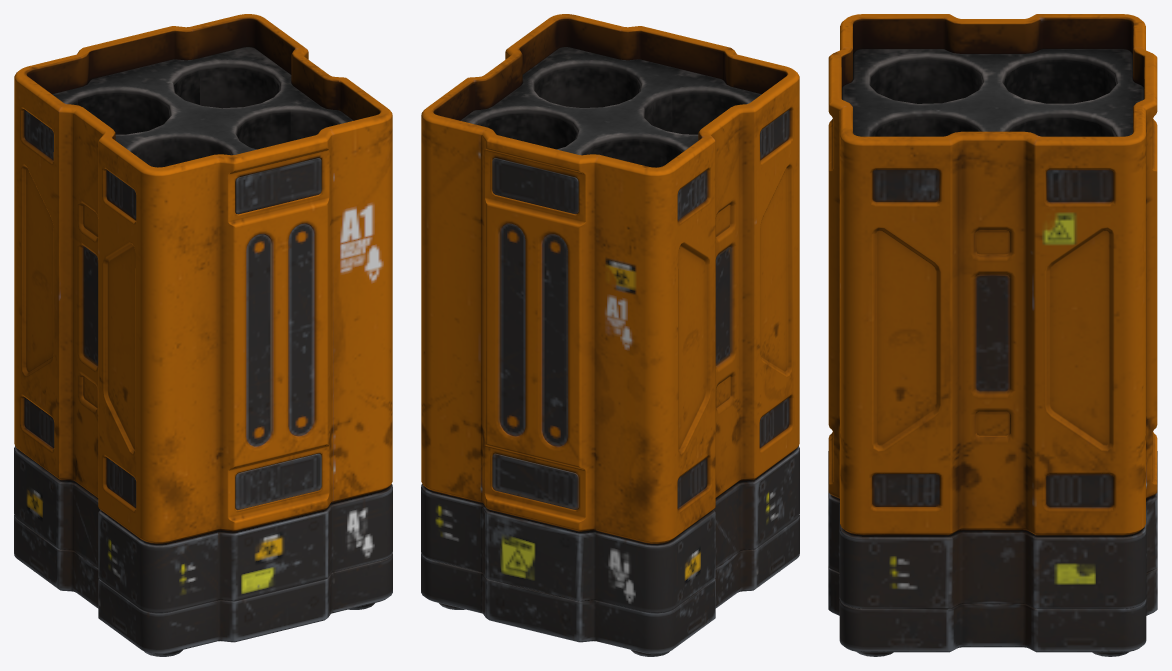
The model's file is SM_AmmunitionBoxes01_Body.fbx.
3 renders of one model, left to right at view 1: azimuth 30°, elevation 25°; view 2: azimuth 150°, elevation 25°; view 3: azimuth 270°, elevation 25°, orthographic. The views are drawn at different scales.
Visible parts, largest first — view 1: SM_AmmunitionBoxes01_Body_LOD0; view 2: SM_AmmunitionBoxes01_Body_LOD0; view 3: SM_AmmunitionBoxes01_Body_LOD0.
Boxes of the visible parts, x1,y1,x2,y2 form: SM_AmmunitionBoxes01_Body_LOD0: [14, 14, 392, 656]; SM_AmmunitionBoxes01_Body_LOD0: [421, 14, 799, 656]; SM_AmmunitionBoxes01_Body_LOD0: [828, 14, 1157, 656].
Size of the model in its own units: 42.33 by 45.44 by 79.38.
Materials: 1 (1 with a texture image).
